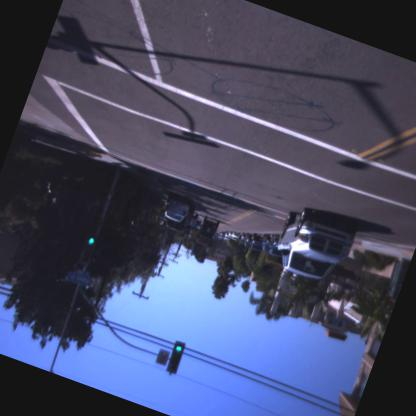trafficlight: (76, 227, 100, 266), (164, 339, 188, 375)
